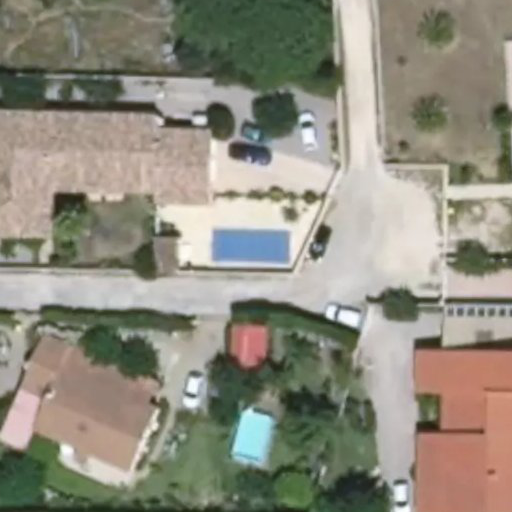pool: (211, 227, 294, 267), (226, 408, 279, 462)
